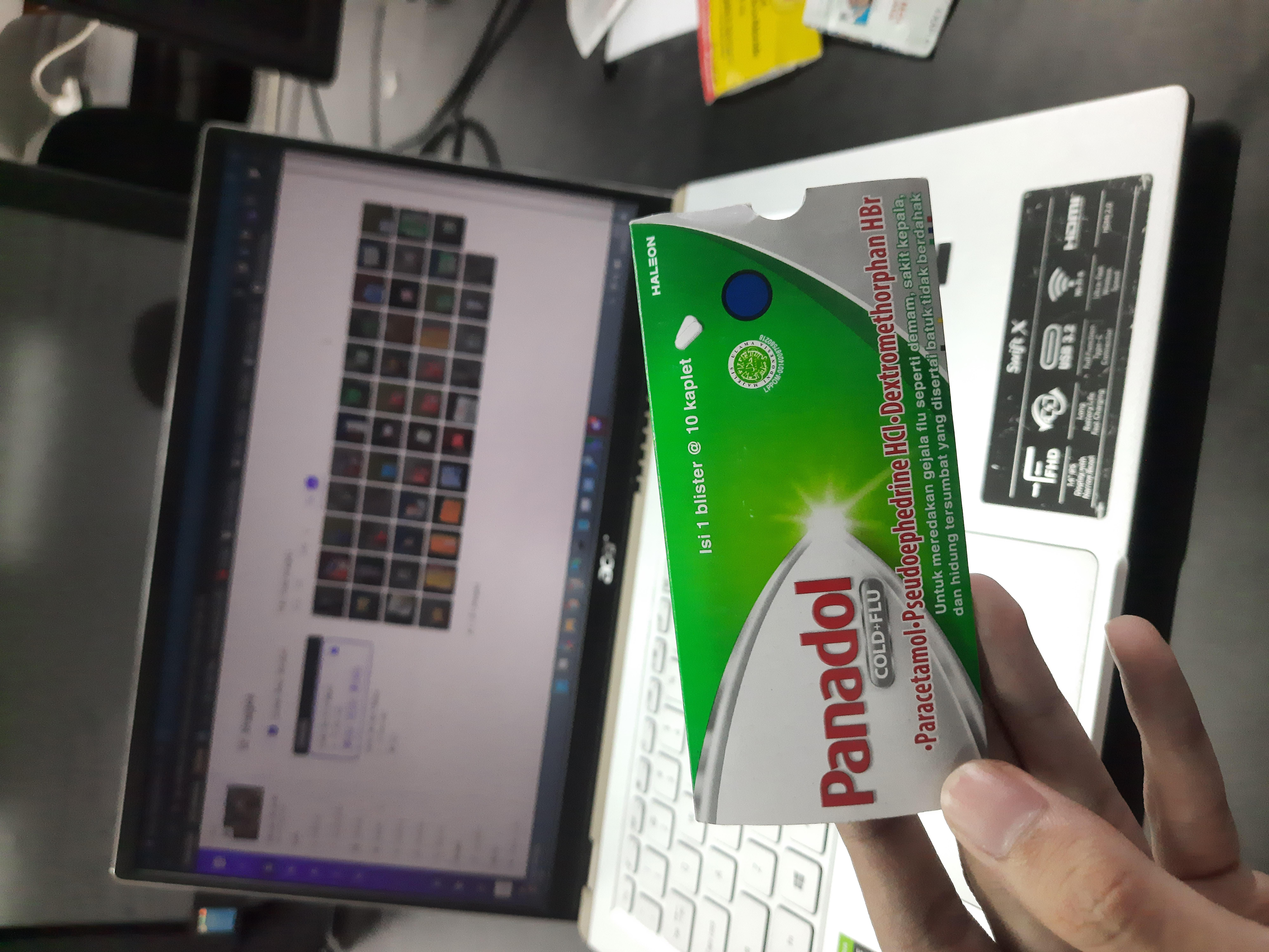Panadol Cold Flu: (169, 472, 1031, 741)
